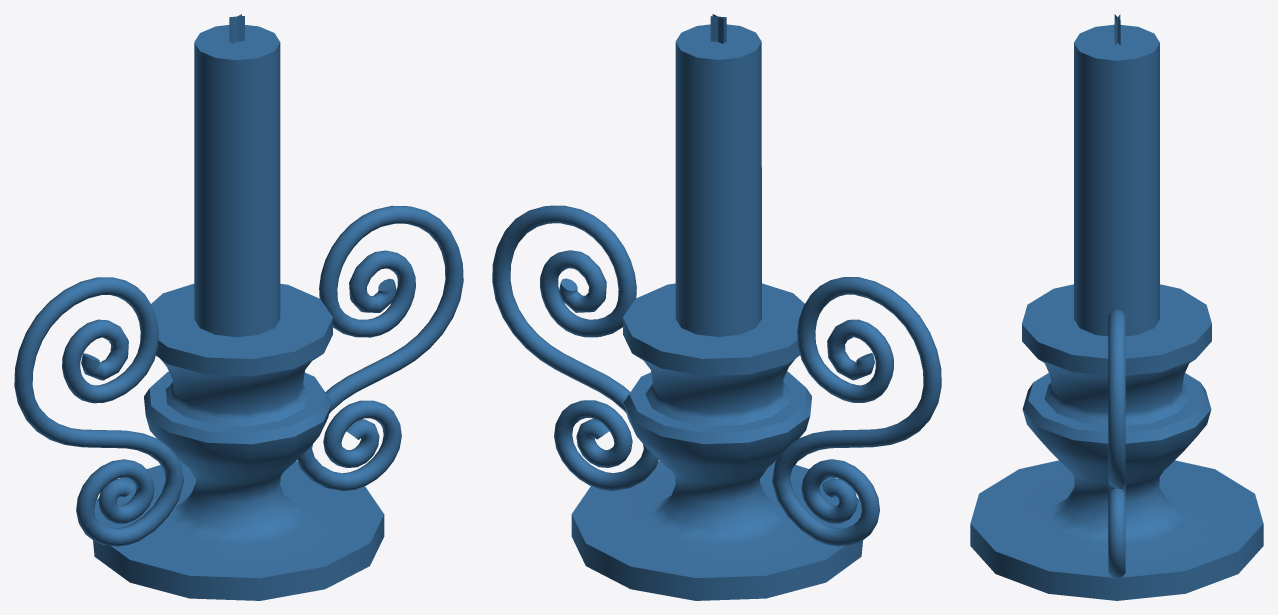
The model's file is Mesh_CandelabroMesaMedio_v001.fbx.
3 renders of one model, left to right at view 1: azimuth 30°, elevation 25°; view 2: azimuth 150°, elevation 25°; view 3: azimuth 270°, elevation 25°, orthographic.
Parts seen in each view (by area): view 1: Mesh_CandelabroMesaMedio_v001; view 2: Mesh_CandelabroMesaMedio_v001; view 3: Mesh_CandelabroMesaMedio_v001.
Part boxes in pixels (bbox=[...]): Mesh_CandelabroMesaMedio_v001: bbox=[14, 14, 463, 600]; Mesh_CandelabroMesaMedio_v001: bbox=[492, 14, 941, 600]; Mesh_CandelabroMesaMedio_v001: bbox=[970, 14, 1263, 600].
Size of the model in its own units: 0.8154 by 0.9107 by 0.4636.
